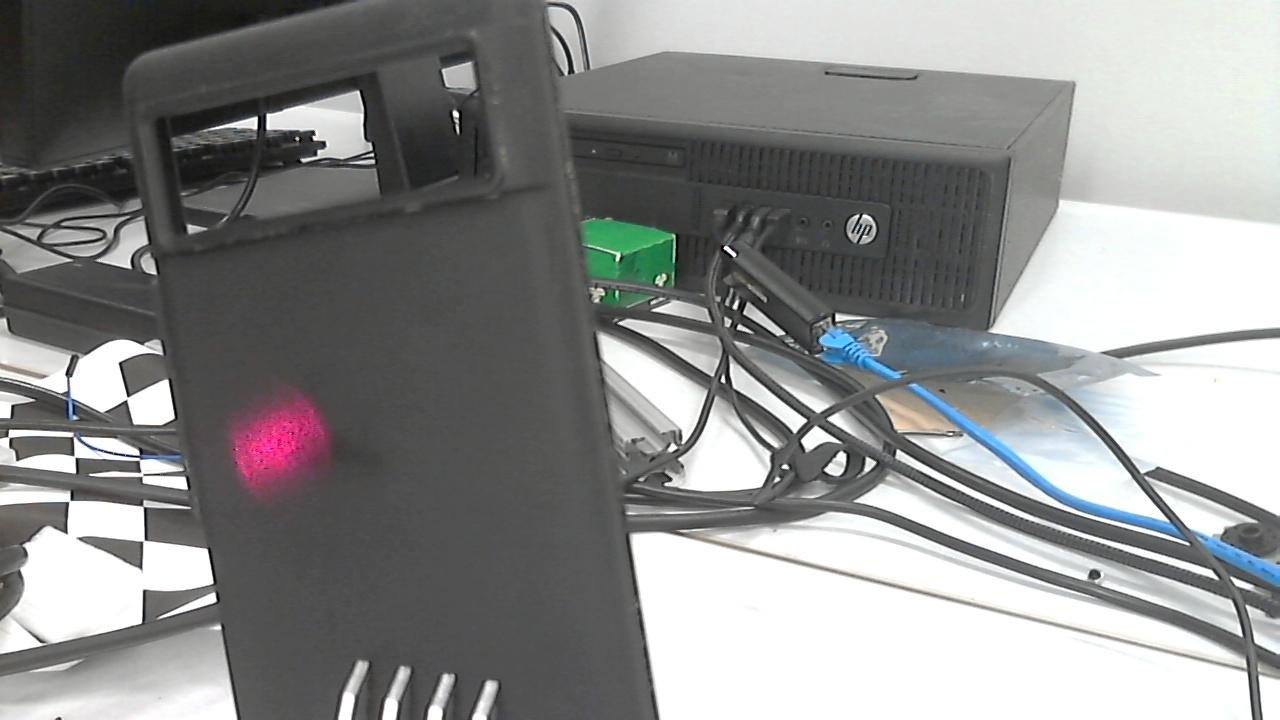Object protective phone case - Material plastic - Pdfname asdfeafgta: (210, 378, 345, 516)
